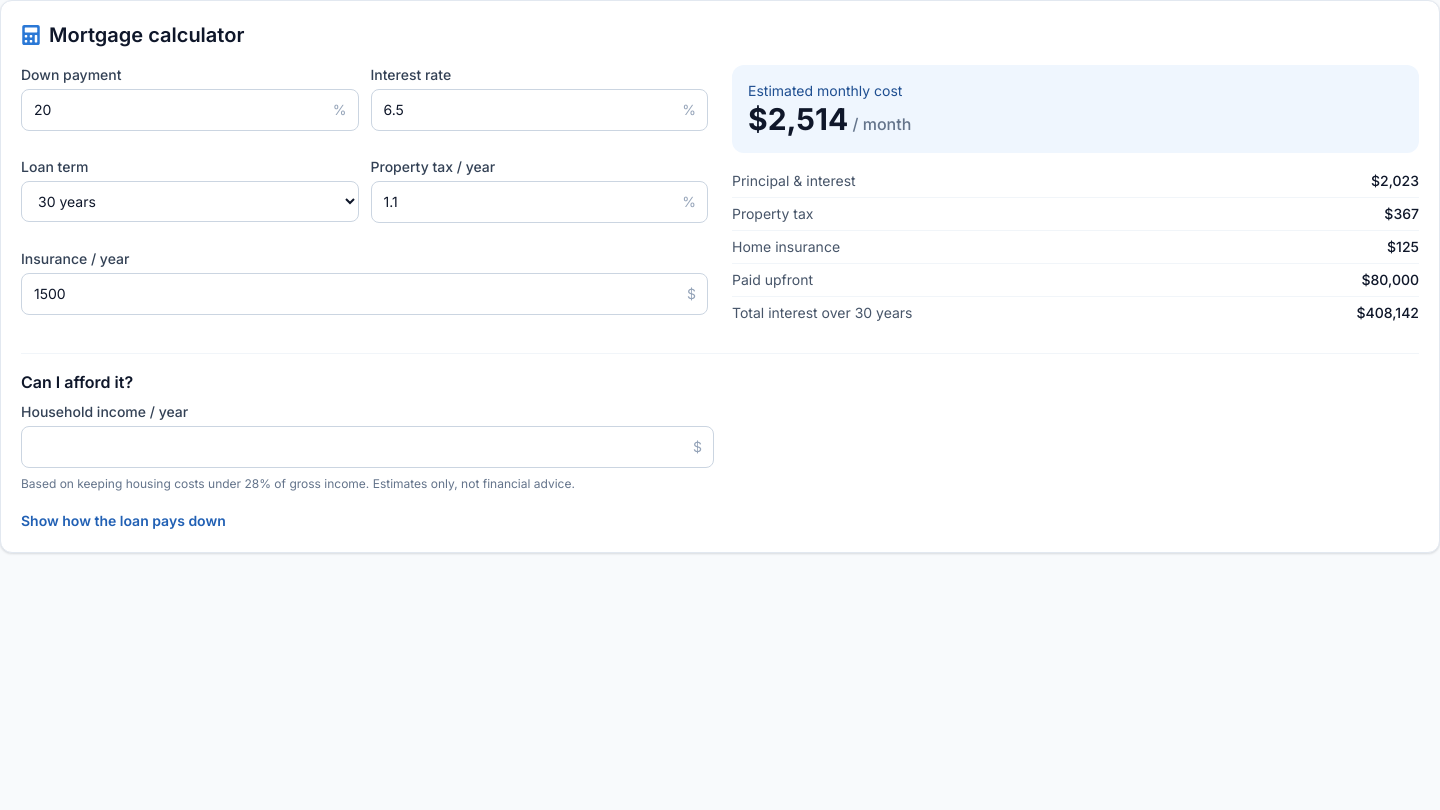
Test case: MortgageCalculator › hides the schedule when there is no loan
The width and height of the screenshot is (1440, 810).
Replace the text in the number field labelled "Down payment" with "100" at point(190, 110), box [21,89,358,131]
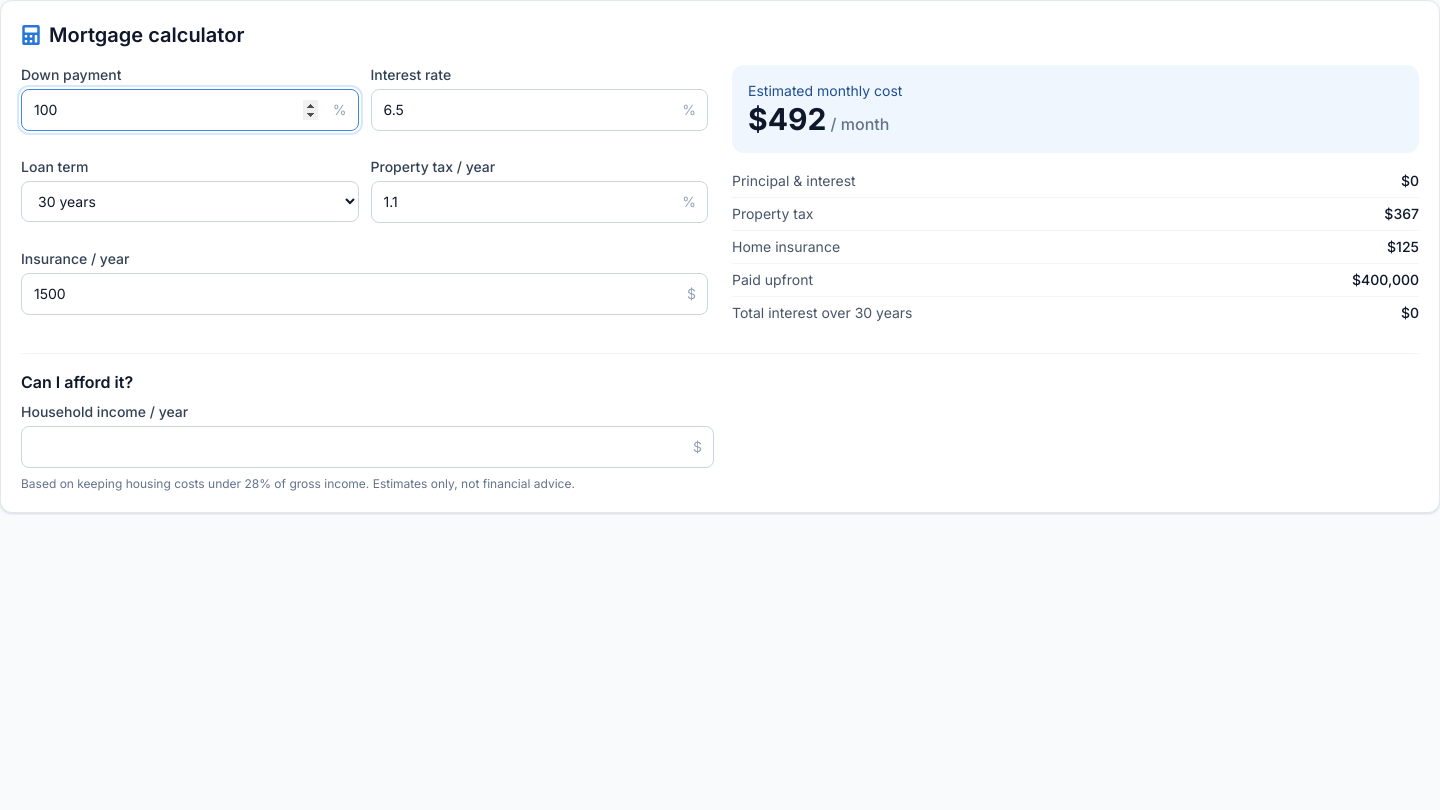
Expected: the button "how the loan pays down" is gone
